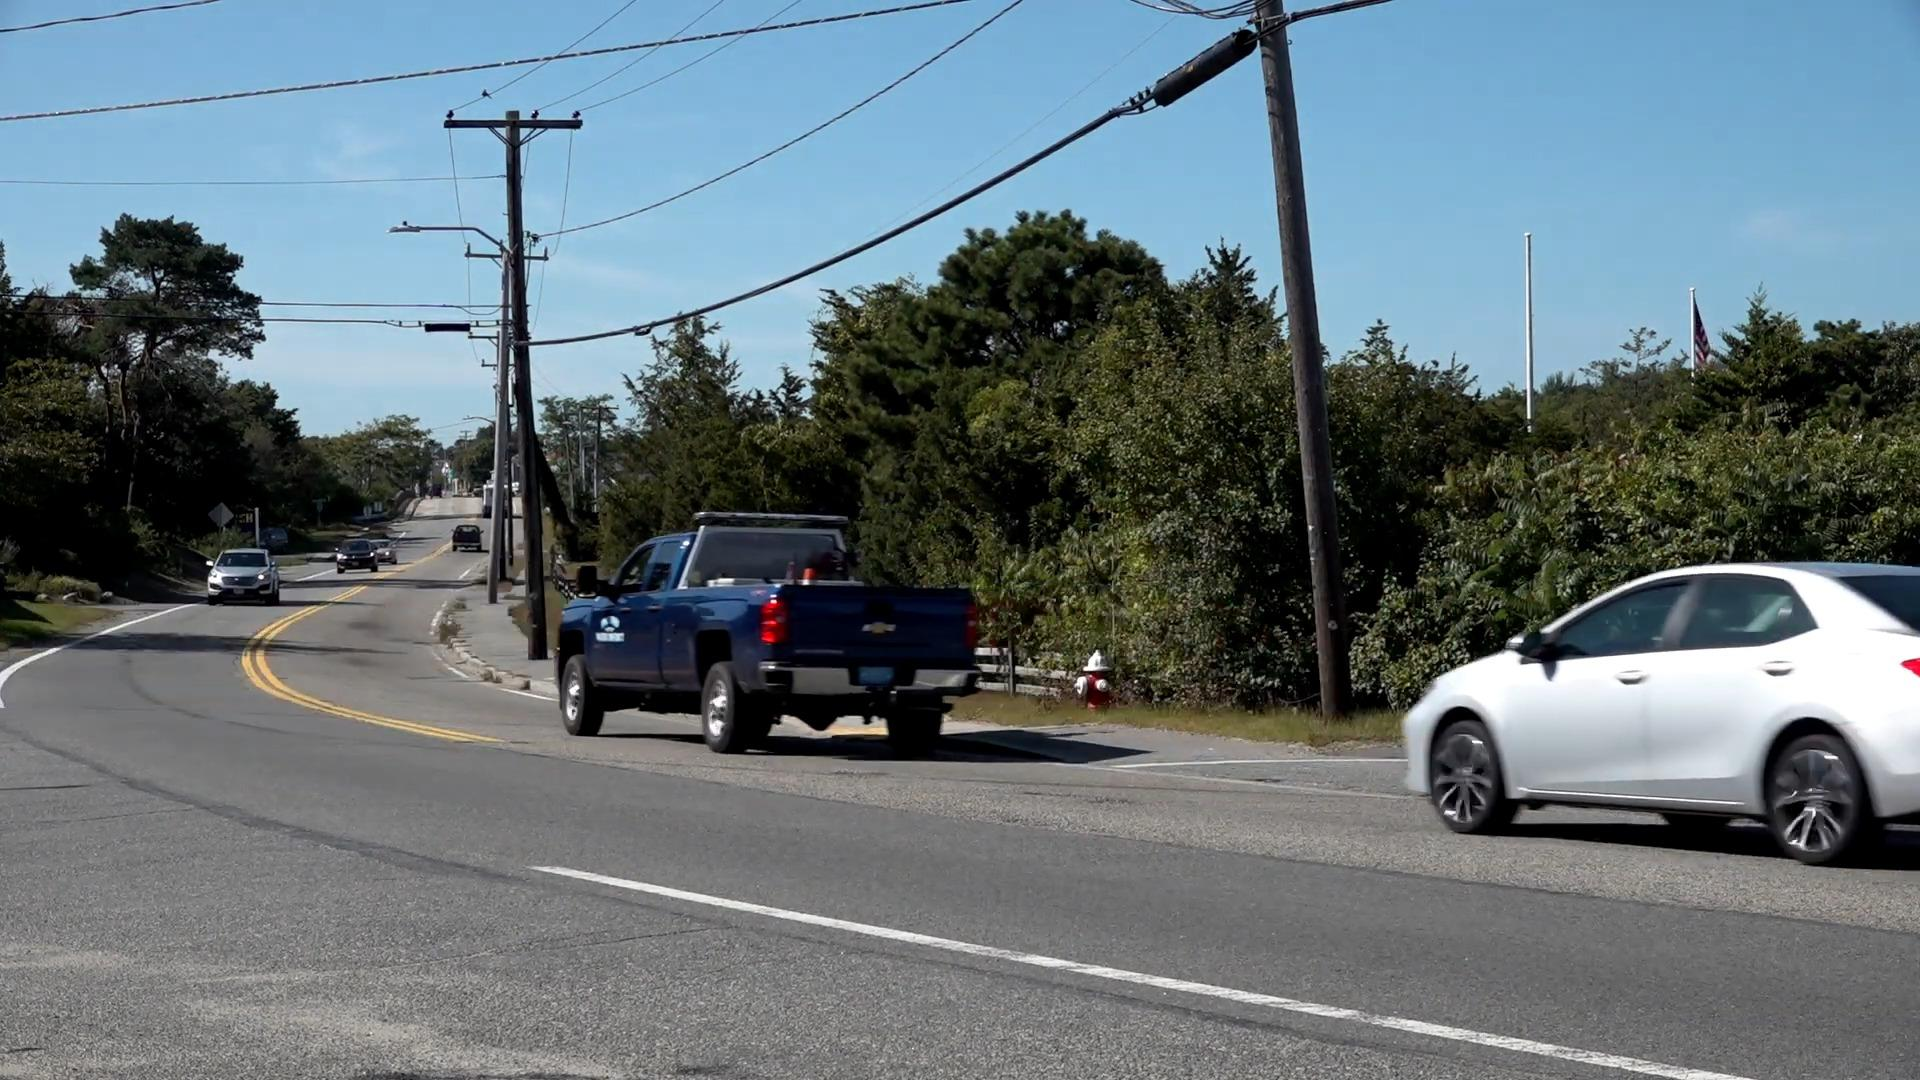pickup: (553, 520, 982, 760)
sedans: (1403, 562, 1919, 864)
suv: (207, 546, 278, 600)
